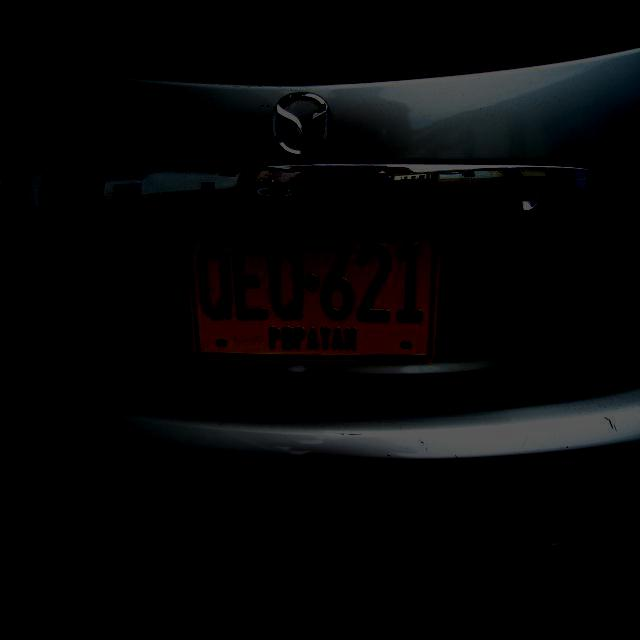placa: (177, 206, 444, 366)
